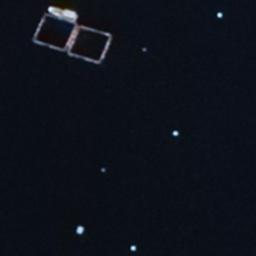square_solid: (27, 8, 85, 56), (61, 22, 118, 70)
